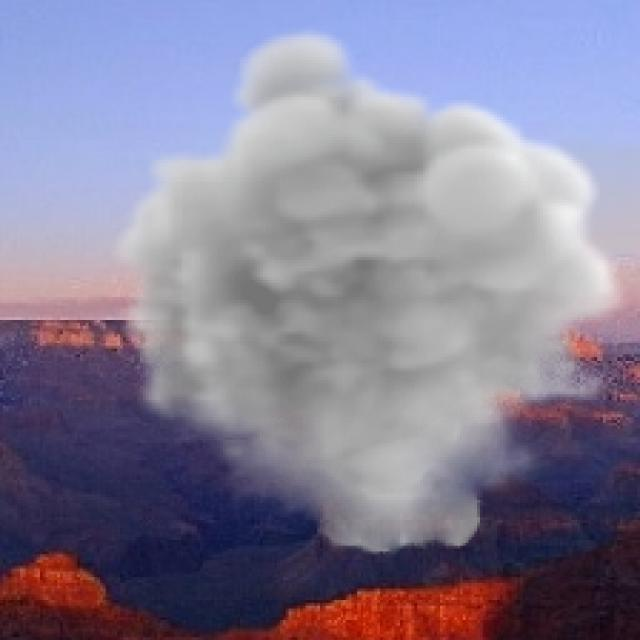smoke: (111, 23, 628, 557)
